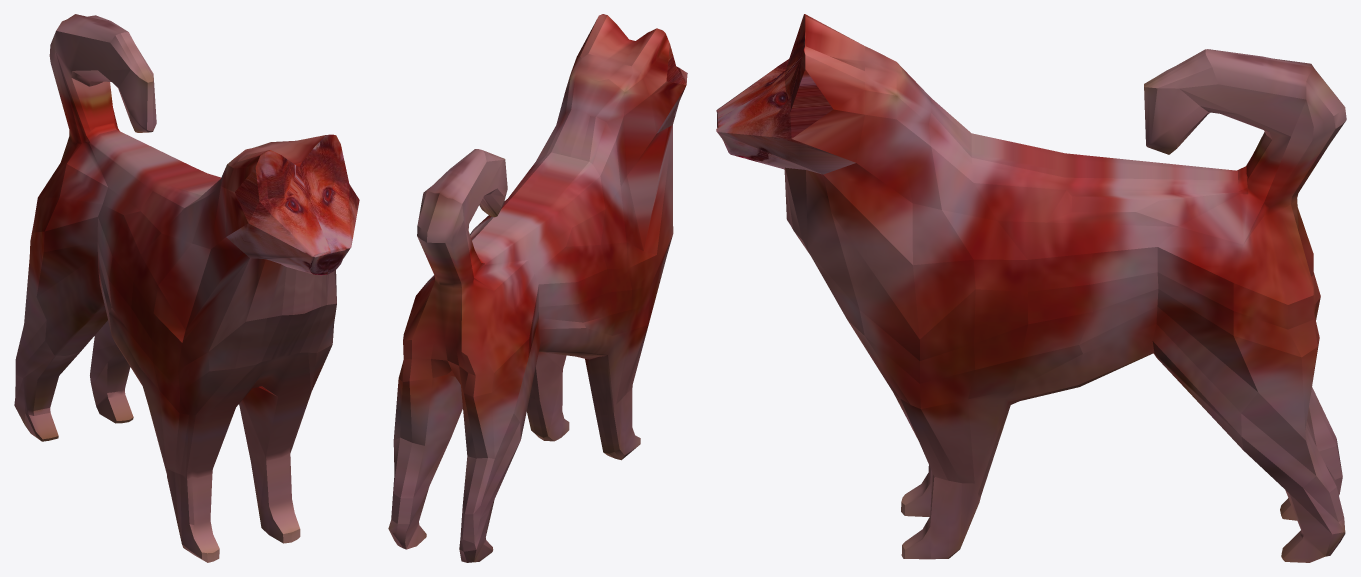
File: dog.fbx
The picture shows the model from 3 angles, left to right: view 1: azimuth 30°, elevation 25°; view 2: azimuth 150°, elevation 25°; view 3: azimuth 270°, elevation 25°; orthographic projection. The views are drawn at different scales.
Visible parts, largest first — view 1: pCube1; view 2: pCube1; view 3: pCube1.
Part boxes in pixels (x1,y1,x2,y2): pCube1: (14, 14, 359, 562); pCube1: (388, 14, 687, 562); pCube1: (716, 14, 1346, 562).
Size of the model in its own units: 0.8698 by 2.51 by 2.82.
